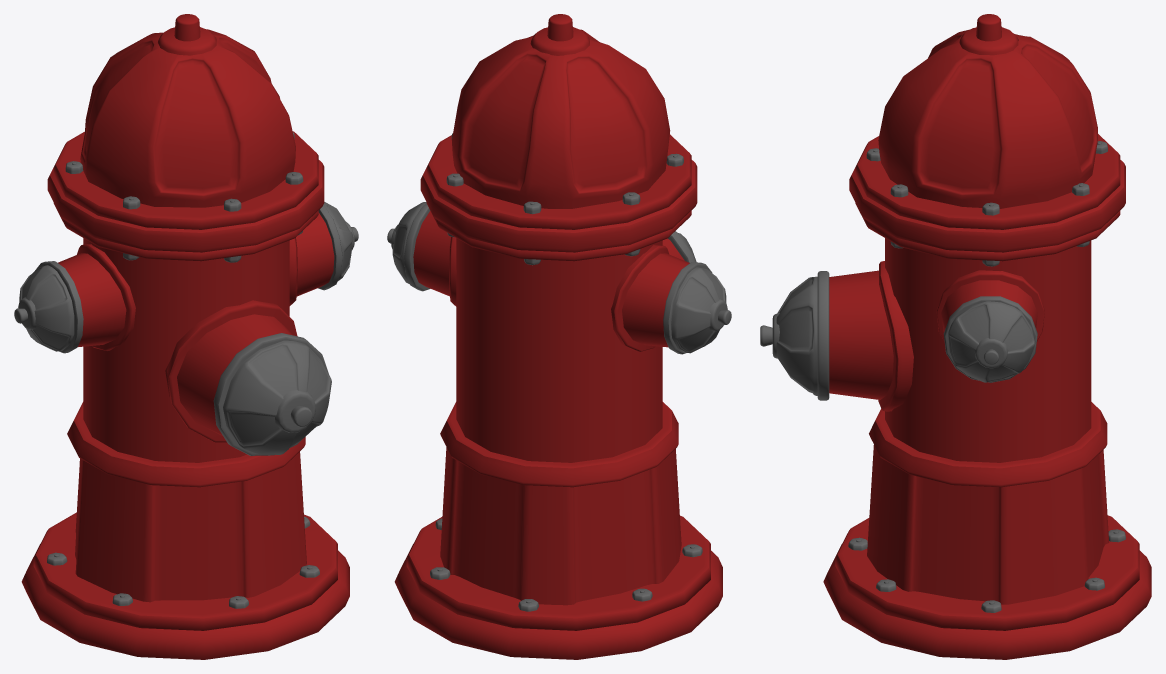
The model's file is FireHydrant.fbx.
3 renders of one model, left to right at view 1: azimuth 30°, elevation 25°; view 2: azimuth 150°, elevation 25°; view 3: azimuth 270°, elevation 25°, orthographic.
Visible parts, largest first — view 1: FireHydrant; view 2: FireHydrant; view 3: FireHydrant.
Boxes of the visible parts, <box> form: FireHydrant: <box>14,14,358,659</box>; FireHydrant: <box>387,14,731,659</box>; FireHydrant: <box>760,14,1151,659</box>.
Bounding box in the file's own units: 25.96 × 42.09 × 26.01.
